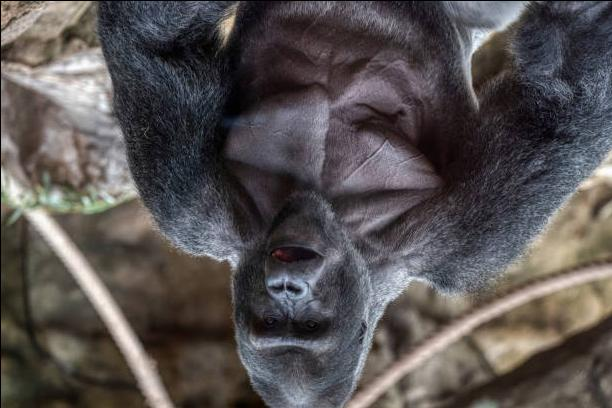gorille_Autres: (56, 0, 599, 406)
